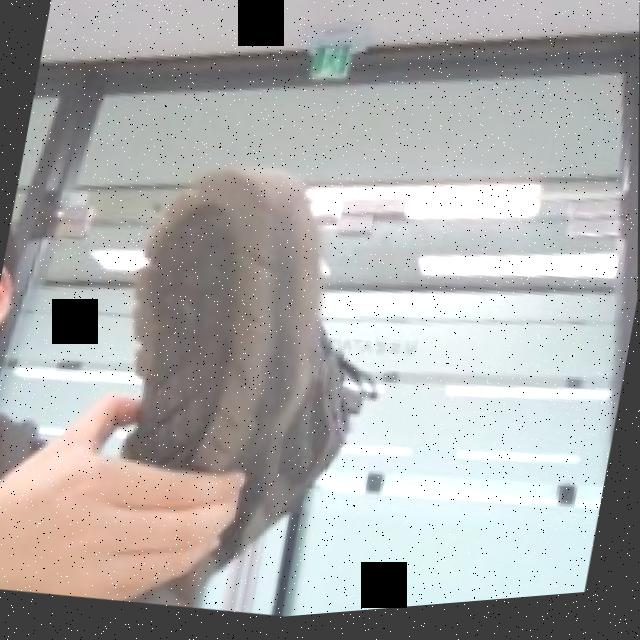shoes: (79, 143, 399, 635)
